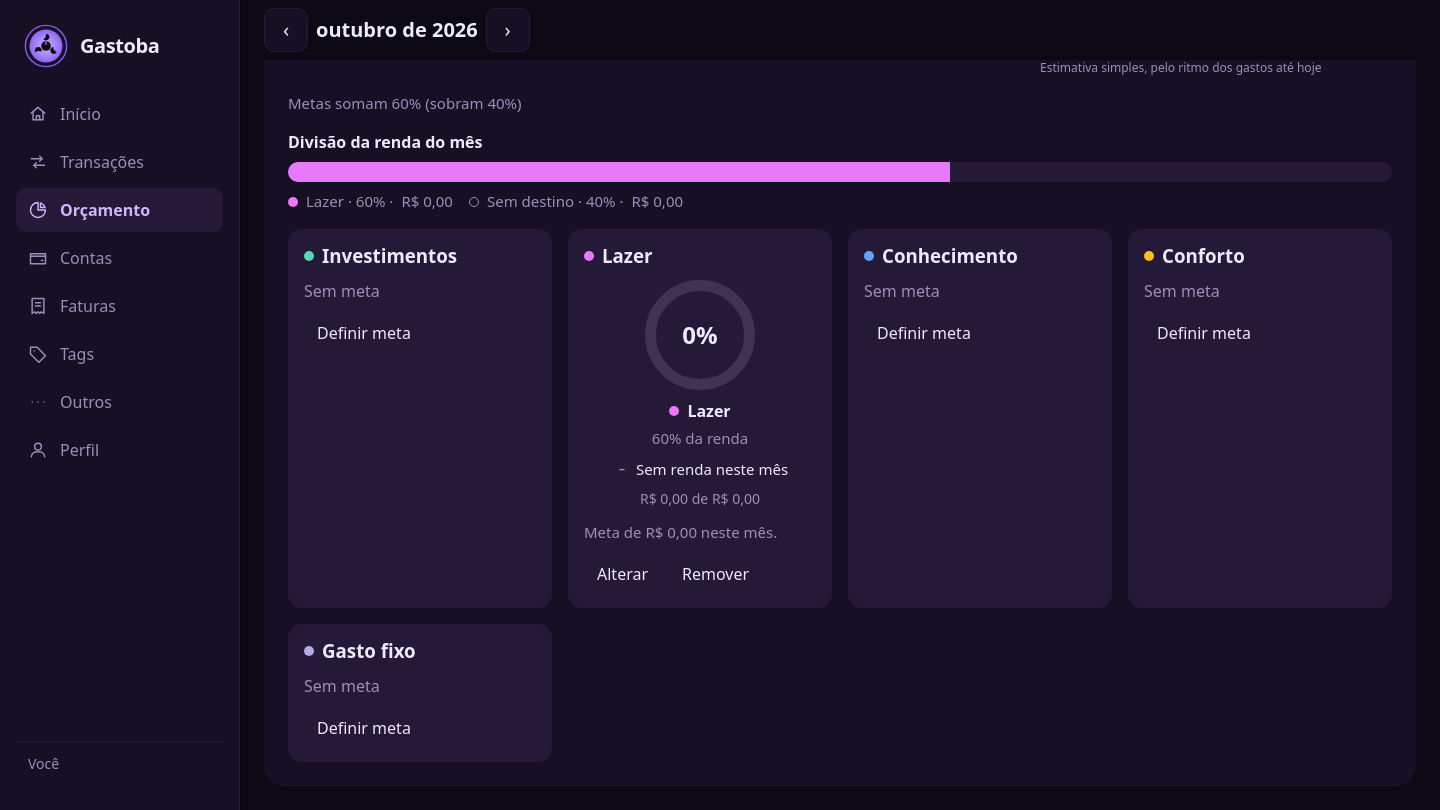
Scenario: Orcamento › altera o percentual de uma meta que já existe sem contá-la em dobro na soma
(page scrolled)
Expected: the list item "Lazer" shows "60% da renda", [568, 229, 832, 608]
Click the button with aria-label "Alterar a meta de Lazer".
click(622, 574)  # box [584, 556, 661, 592]
(page scrolled)
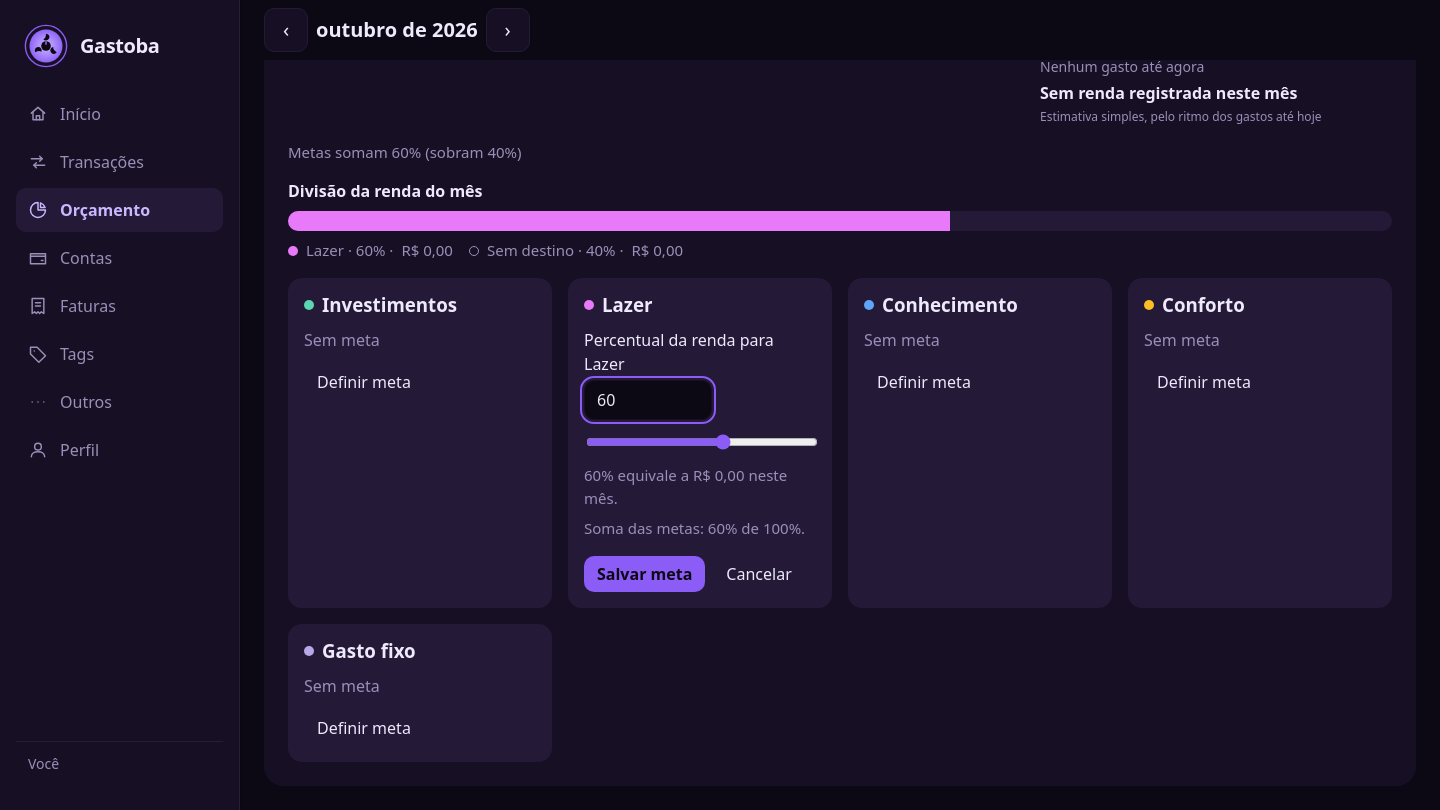
Replace the text in the field labelled "Percentual da renda para Lazer" with "100" at coordinates (648, 400), box [584, 380, 712, 420]
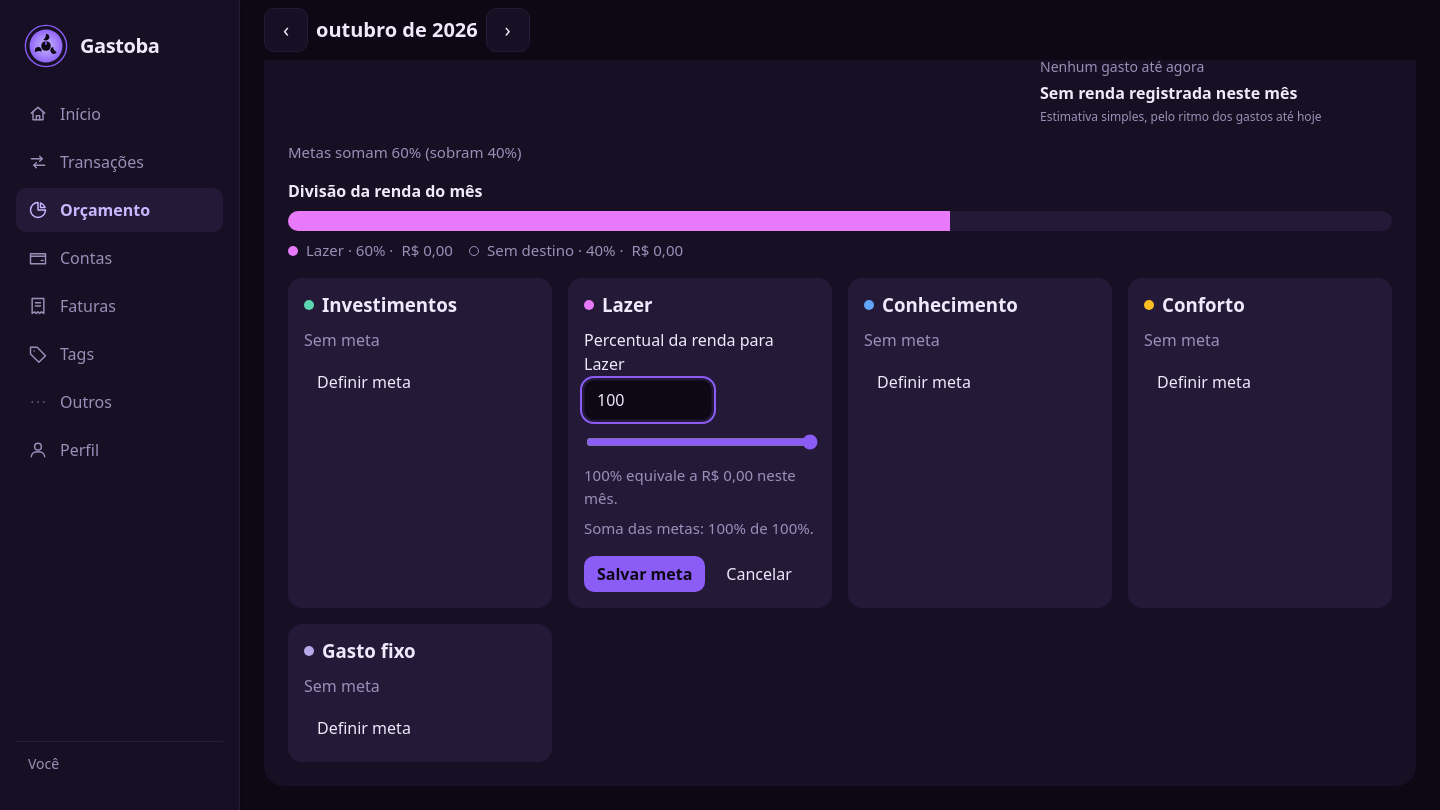
Click the button "Salvar meta".
click(645, 574)  # box [584, 556, 705, 592]
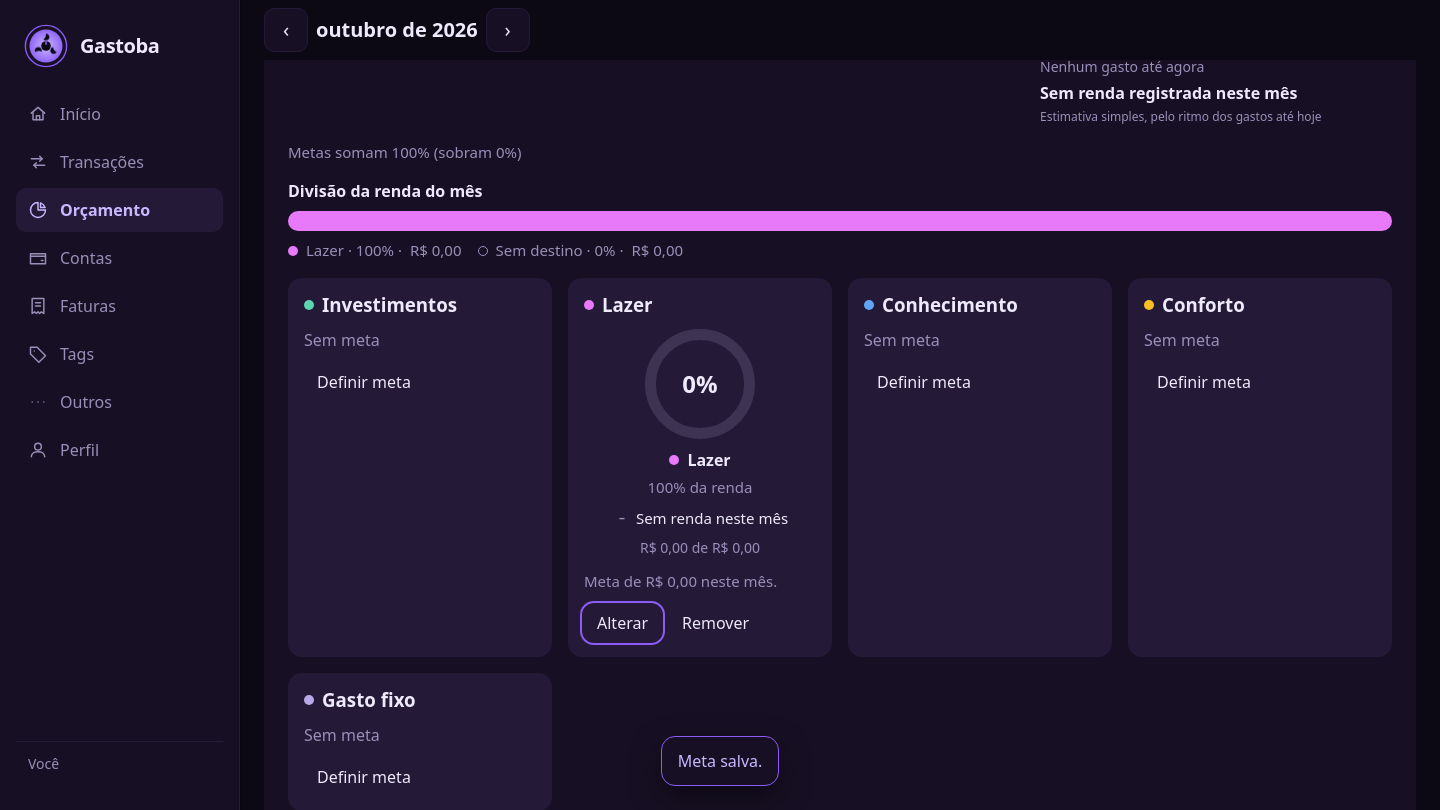
Expected: the text "Meta salva." is shown, [678, 750, 762, 772]
Expected: the text "Metas somam 100% (sobram 0%)" is shown, [288, 142, 522, 162]
